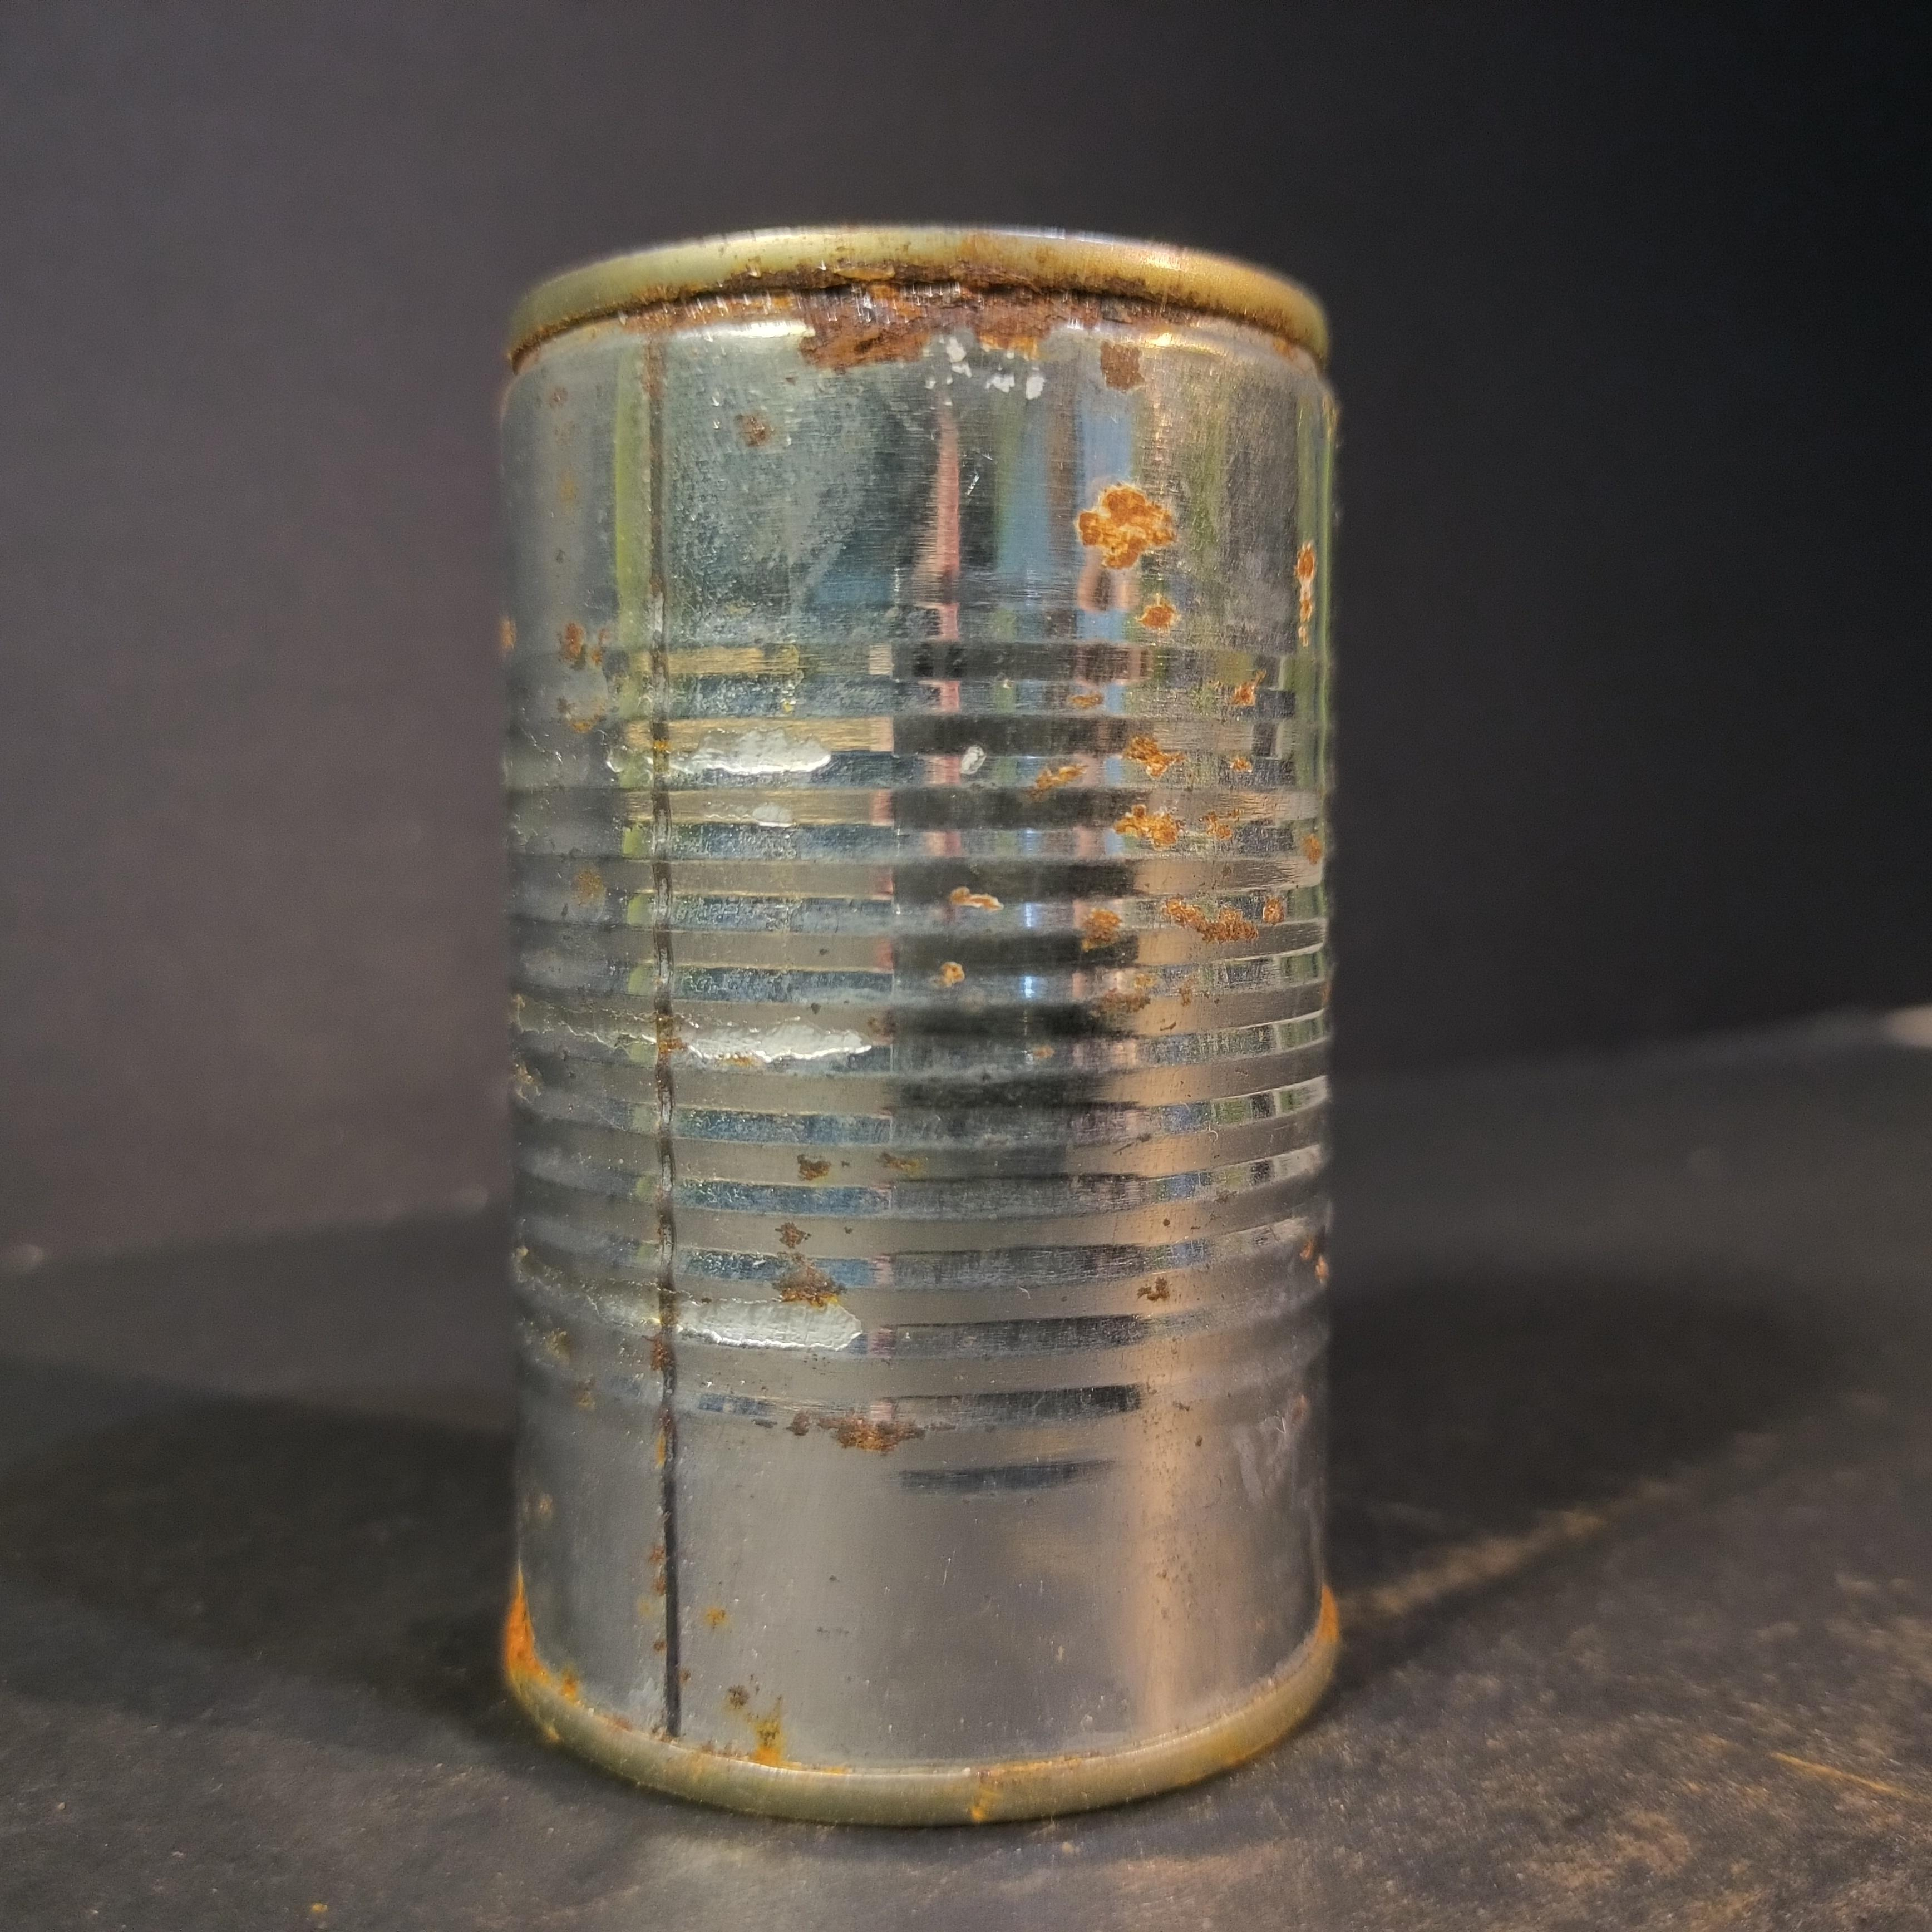Rusted: (446, 195, 1384, 1831)
